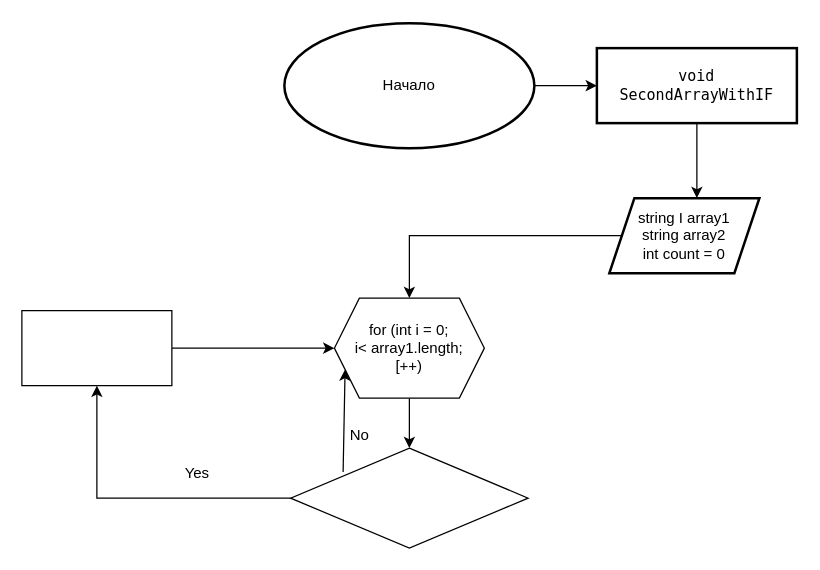
The diagram is 820 pixels wide and 570 high, and some of its shapes have lost their labels. The centre of each missing label's shape, as x and y in pixels:
"iarray2[count = array1fil count++" goes at [96,347].
"if (array1(j.length <= 3)" goes at [408,497].
